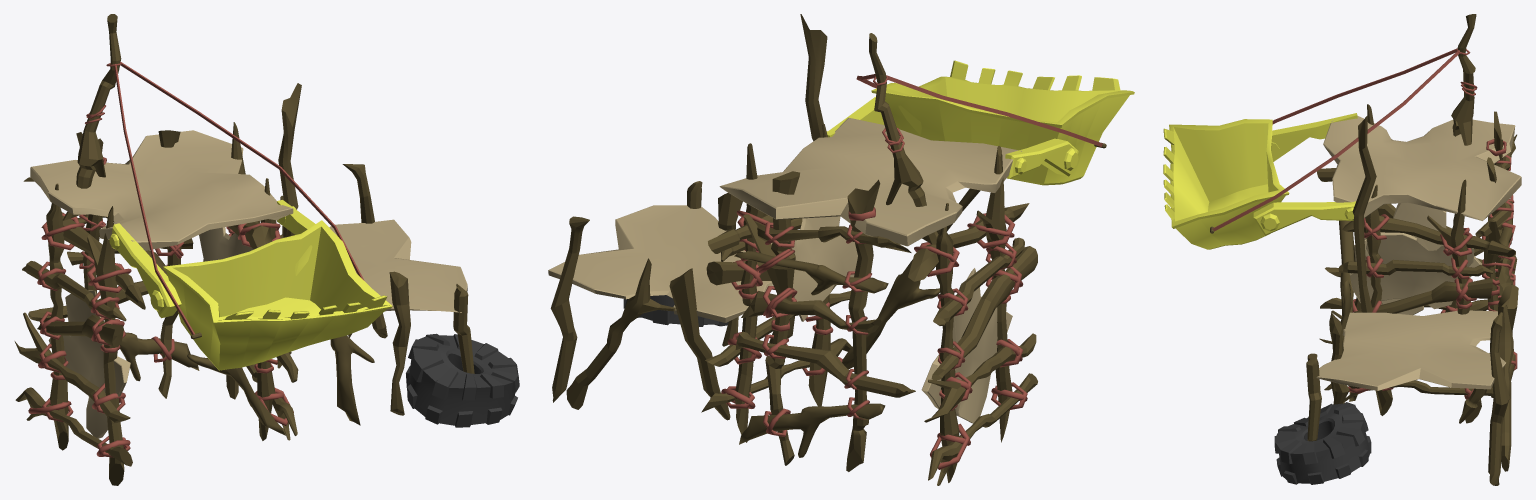
Rendered from EnemyTower.fbx.
The picture shows the model from 3 angles, left to right: view 1: azimuth 30°, elevation 25°; view 2: azimuth 150°, elevation 25°; view 3: azimuth 270°, elevation 25°; orthographic projection. The views are drawn at different scales.
Parts seen in each view (by area): view 1: pCube13, pCube16, pPipe2, pCube17, pCube18, pCylinder1 (×2), pCylinder2 (×2), pCylinder24, pCylinder3 (×2), pCube14, pCylinder20, pCylinder7 (×2) (+16 smaller); view 2: pCube16, pCube13, pCube17, pCylinder2 (×2), pCylinder4 (×2), pCylinder8, pCylinder9, pCube18, pCylinder1 (×2), pCube19, pCylinder22, pCylinder6 (×2) (+17 smaller); view 3: pCube16, pCube13, pCube17, pPipe2, pCube19, pCylinder22, pCylinder23, pCube15, pCylinder4, pCylinder24, pCylinder7, pCube18 (+15 smaller).
Boxes of the visible parts, box(x1,y1,x2,y2) form: pCube13: box(163, 220, 392, 370); pCube16: box(30, 130, 293, 250); pPipe2: box(406, 333, 519, 427); pCube17: box(329, 219, 467, 312); pCube18: box(48, 290, 130, 438); pCylinder1 (×2): box(46, 178, 276, 450); pCylinder2 (×2): box(87, 122, 245, 485); pCylinder24: box(62, 14, 121, 220); pCylinder3 (×2): box(15, 364, 297, 466); pCube14: box(112, 223, 181, 318); pCylinder20: box(389, 271, 410, 415); pCylinder7 (×2): box(41, 212, 272, 309); pCube16: box(719, 117, 1021, 246); pCube13: box(871, 60, 1134, 185); pCube17: box(548, 205, 773, 322); pCylinder2 (×2): box(734, 143, 1012, 442); pCylinder4 (×2): box(706, 246, 1037, 380); pCylinder8: box(743, 171, 799, 465); pCylinder9: box(846, 179, 880, 471); pCube18: box(921, 268, 1012, 423); pCylinder1 (×2): box(808, 124, 959, 482); pCube19: box(791, 216, 857, 321); pCylinder22: box(550, 216, 589, 402); pCylinder6 (×2): box(705, 285, 1036, 422); pCube16: box(1323, 116, 1521, 220); pCube13: box(1163, 119, 1289, 249); pCube17: box(1316, 310, 1505, 390); pPipe2: box(1274, 402, 1371, 484); pCube19: box(1349, 232, 1474, 309); pCylinder22: box(1488, 312, 1509, 485); pCylinder23: box(1352, 115, 1376, 312); pCube15: box(1253, 201, 1355, 235); pCylinder4: box(1354, 277, 1492, 313); pCylinder24: box(1451, 14, 1476, 145); pCylinder7: box(1342, 215, 1515, 257); pCube18: box(1354, 202, 1481, 314).
Bounding box in the file's own units: 17.27 × 17.27 × 15.53.
